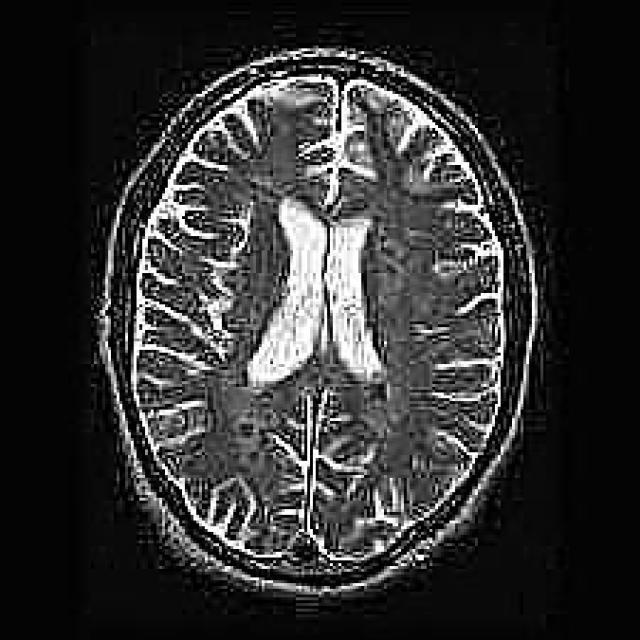notumor: (100, 48, 535, 600)
